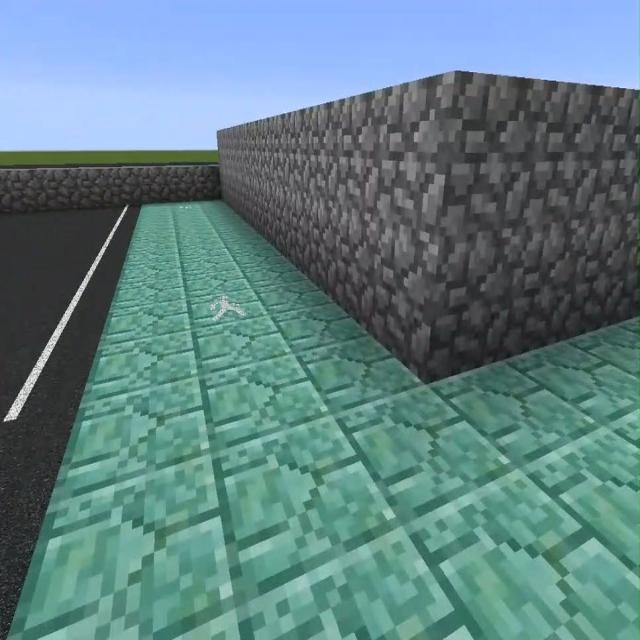crosswalk: (1, 205, 138, 639)
road: (7, 198, 639, 639)
